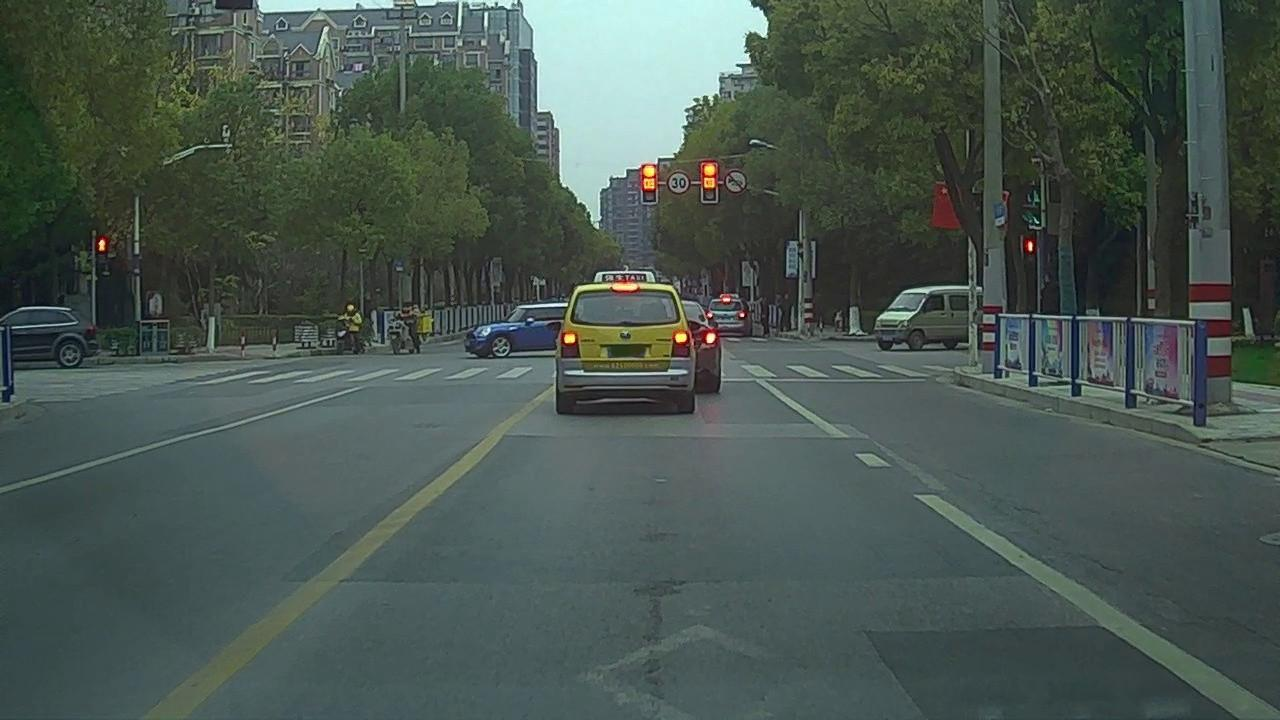traffic_light: (702, 162, 718, 201), (644, 164, 658, 202)
